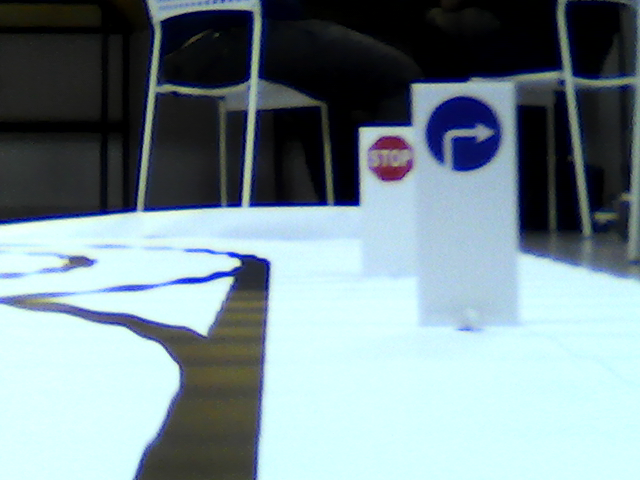Right: (427, 95, 503, 171)
Stop: (372, 135, 411, 182)
